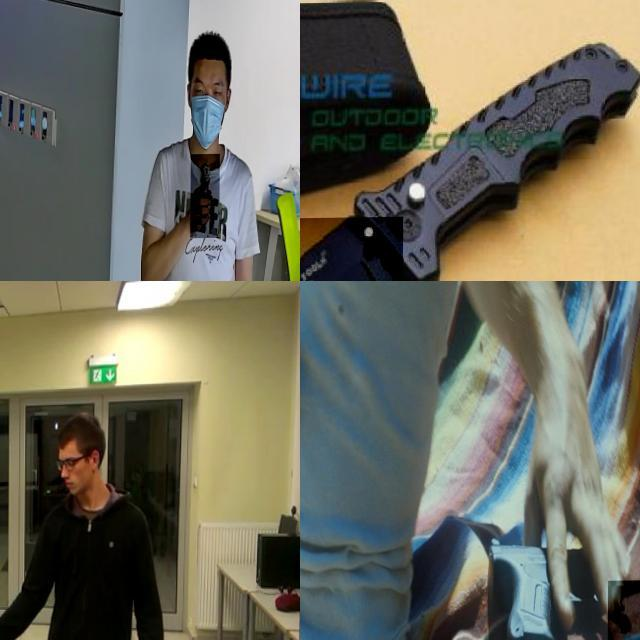gun-knife-thesis - v11 Yolov5 augmented: (483, 508, 607, 640), (190, 154, 220, 240), (0, 620, 27, 640)
